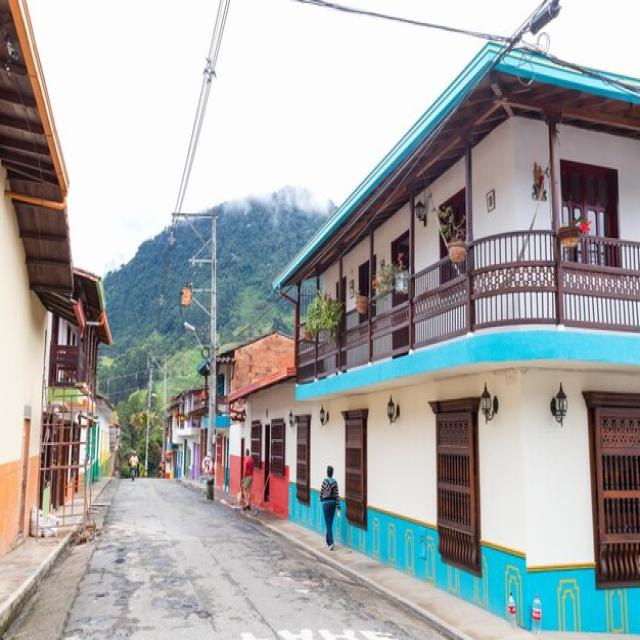Fachada: (275, 45, 640, 634), (1, 0, 74, 553), (42, 269, 111, 505), (217, 332, 293, 490), (229, 367, 296, 516)
Poste: (174, 213, 217, 499), (146, 368, 152, 474), (162, 356, 166, 468), (152, 359, 159, 365)
